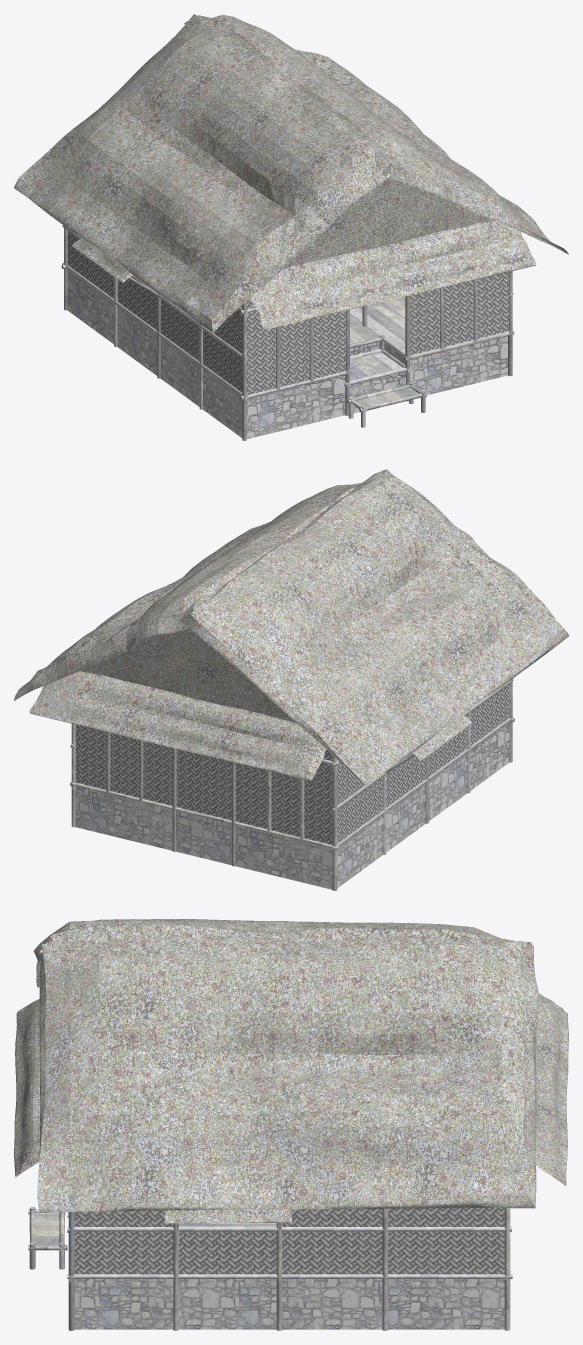
3 views of the same model, one above another, from view 1: azimuth 30°, elevation 25°; view 2: azimuth 150°, elevation 25°; view 3: azimuth 270°, elevation 25° (orthographic). The views are drawn at different scales.
Visible parts, largest first — view 1: 7; view 2: 7; view 3: 7.
Boxes of the visible parts, <box> form: 7: <box>14,14,568,440</box>; 7: <box>14,469,568,890</box>; 7: <box>14,919,568,1330</box>.
Size of the model in its own units: 29.78 by 20.48 by 31.76.
6 materials, 6 textured.
